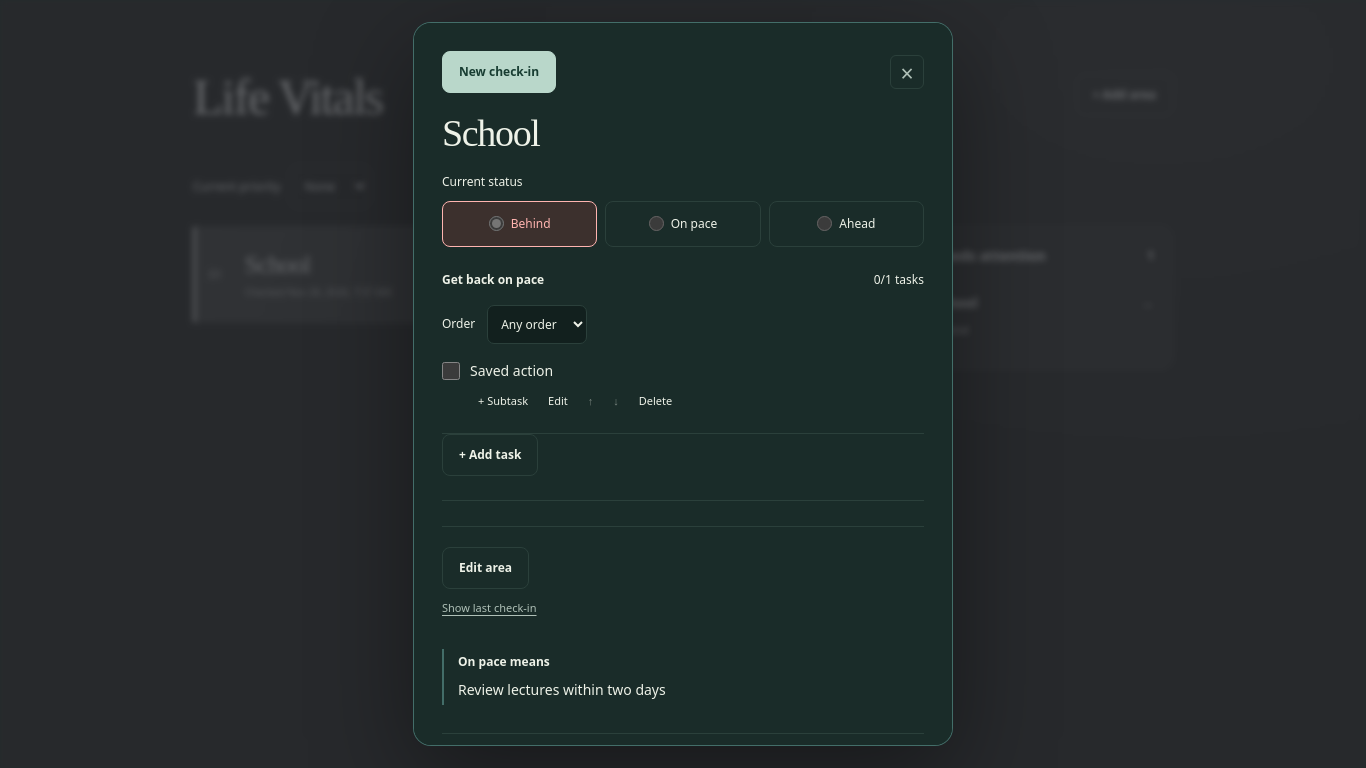
Test case: reopens behind with its saved checklist and separates new check-ins
Earlier steps of the test are not shown.
Click the checkbox named "Complete Saved action" at coordinates (451, 371), box [442, 362, 460, 380]
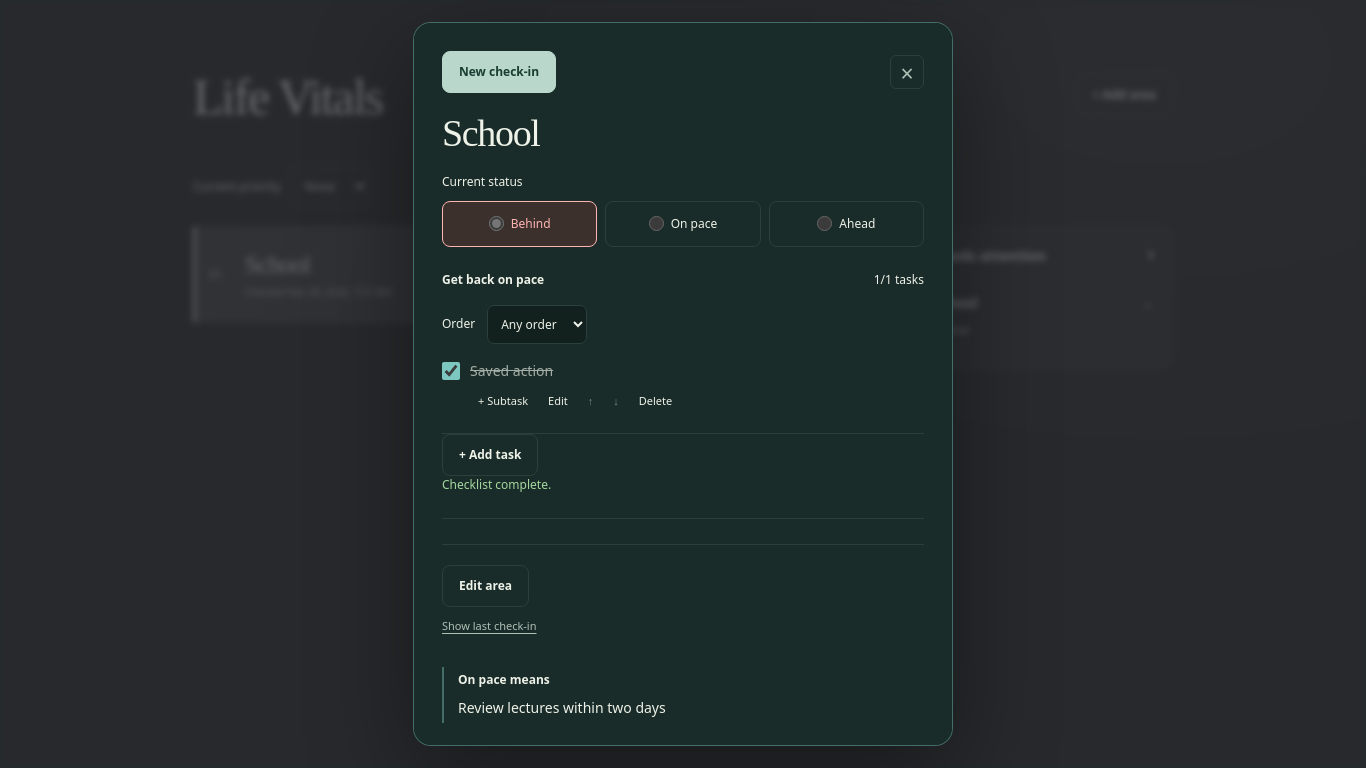
Click the button "New check-in" at coordinates (499, 72), box [442, 51, 556, 93]
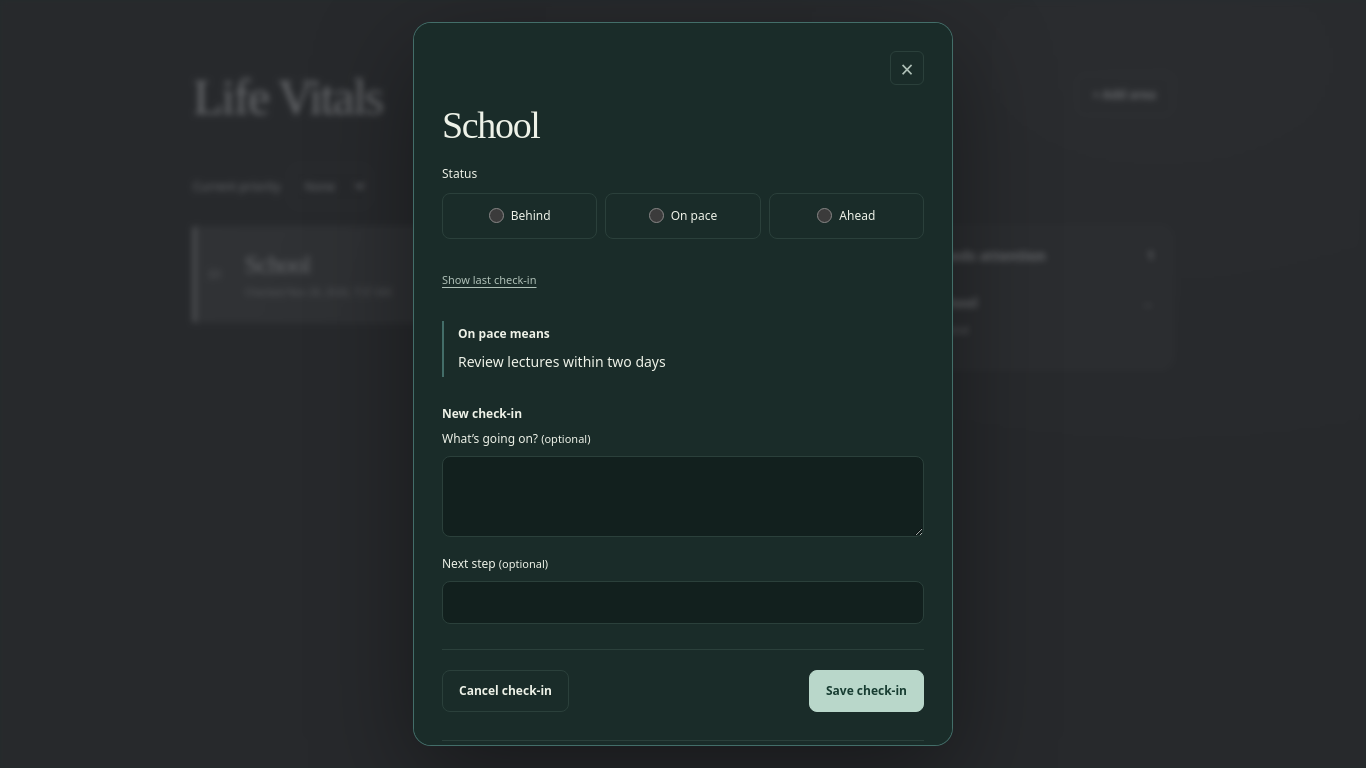
Expected: the element with class "lv-checklist" is gone
Click the radio button labelled "Behind" at coordinates (496, 216), box [489, 208, 504, 223]
(page scrolled)
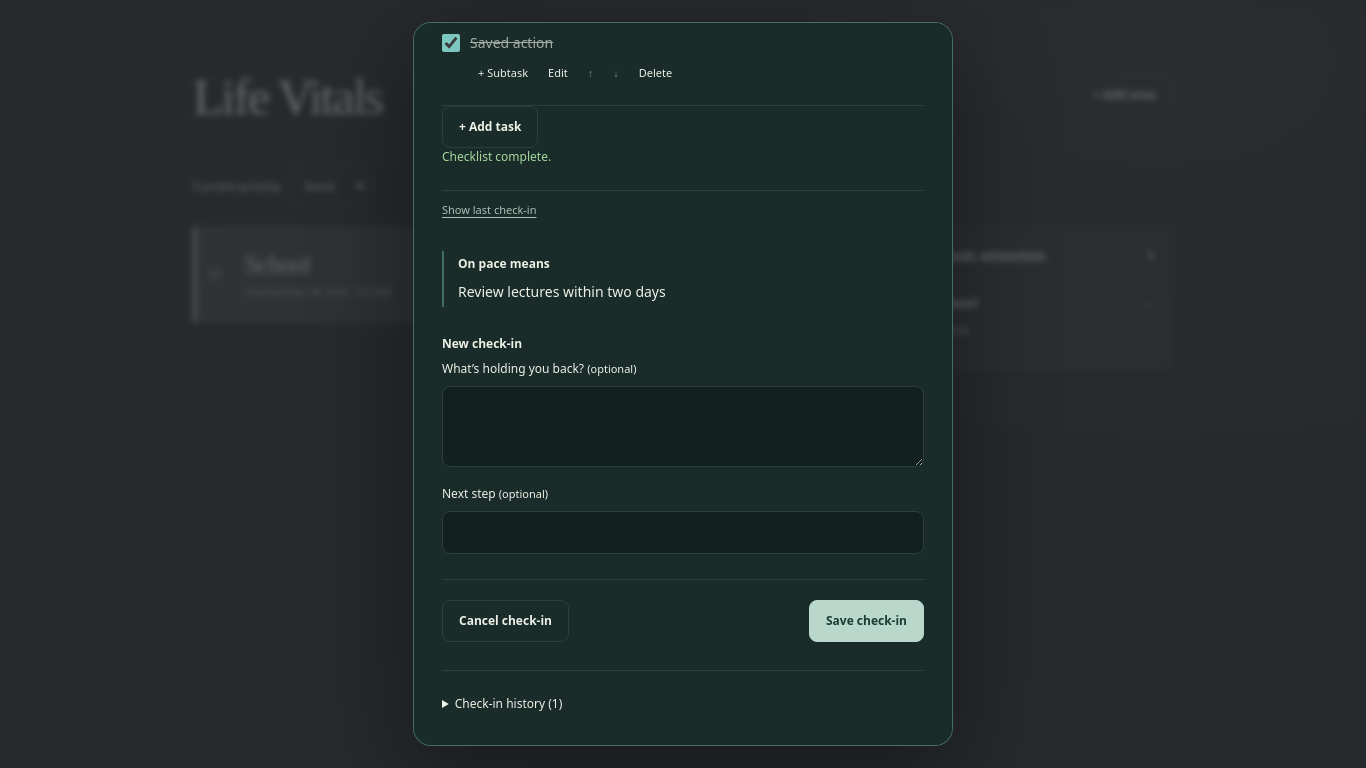
Expected: the element with class "lv-checklist" is shown, [442, 22, 924, 191]
Click the button "Cancel check-in" at coordinates (506, 621), box [442, 600, 569, 642]
(page scrolled)
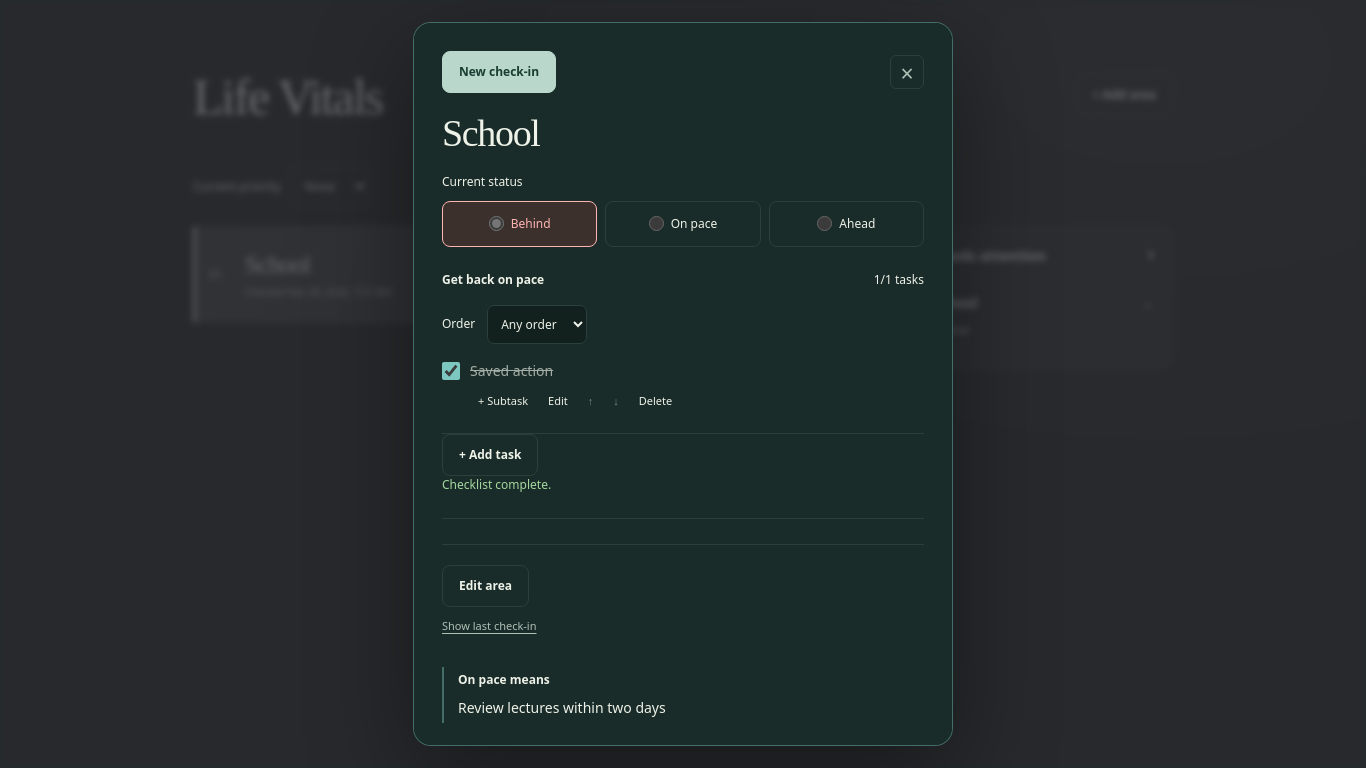
Expected: the checkbox named "Complete Saved action" is checked, [442, 362, 460, 380]
Click the button "×" at coordinates (907, 72), box [890, 55, 924, 89]
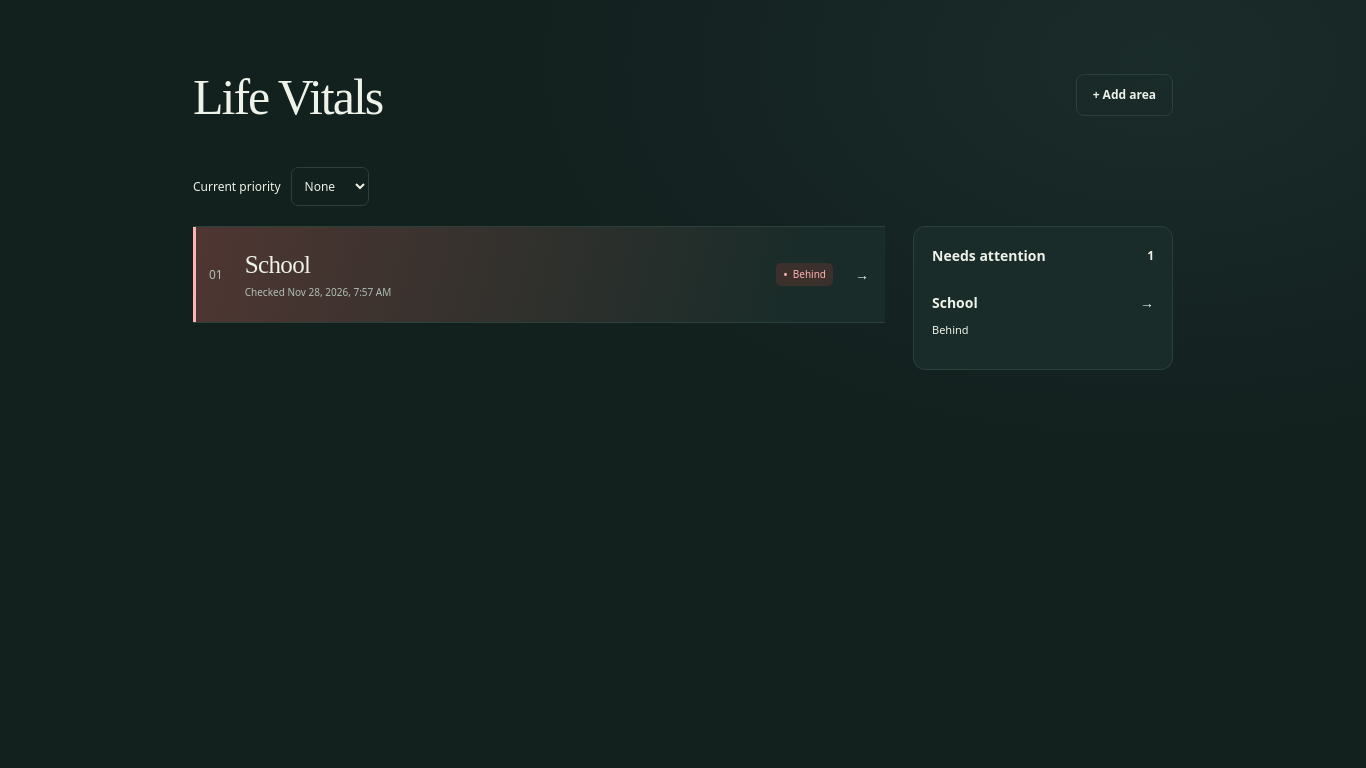
Click the button "01 School Checked Nov 28, 2026, 7:57 AM • Behind →" at coordinates (278, 264), box [193, 227, 885, 323]
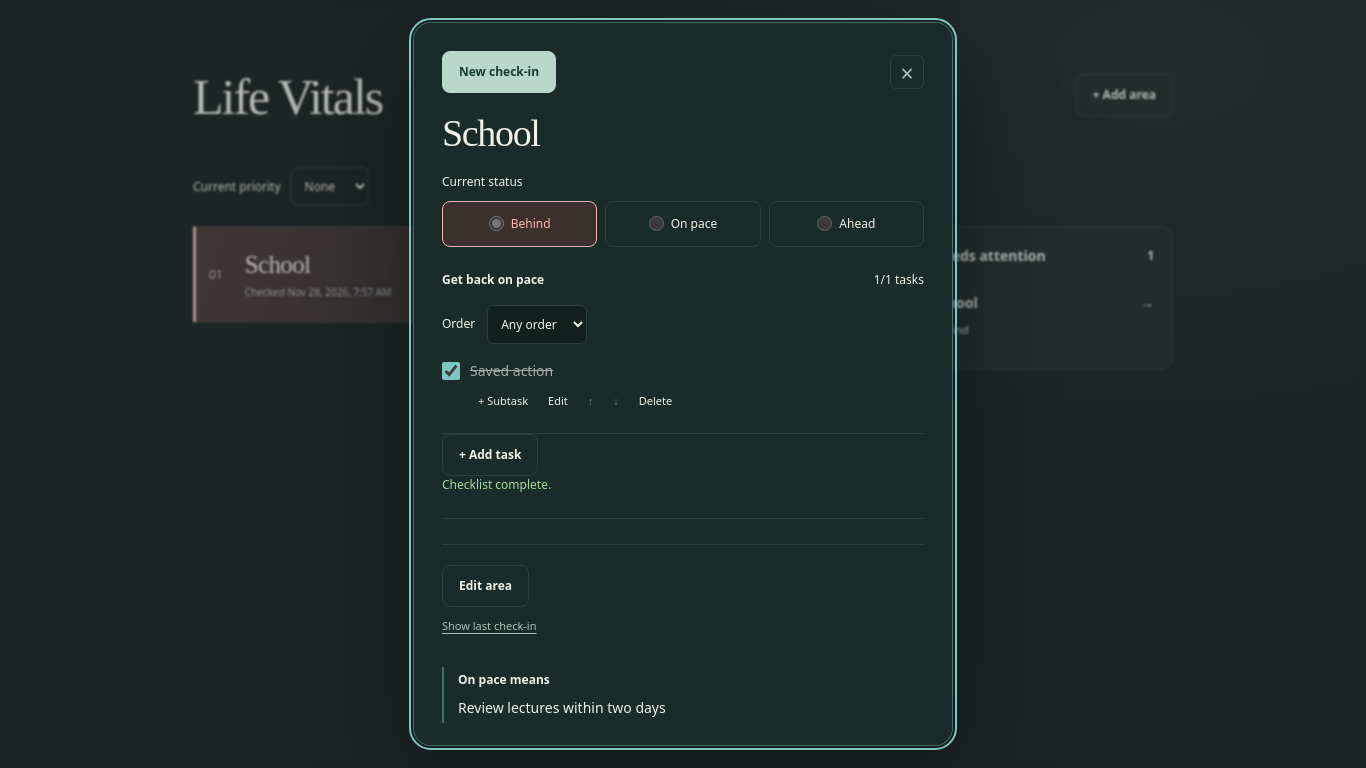
Expected: the checkbox named "Complete Saved action" is checked, [442, 362, 460, 380]
